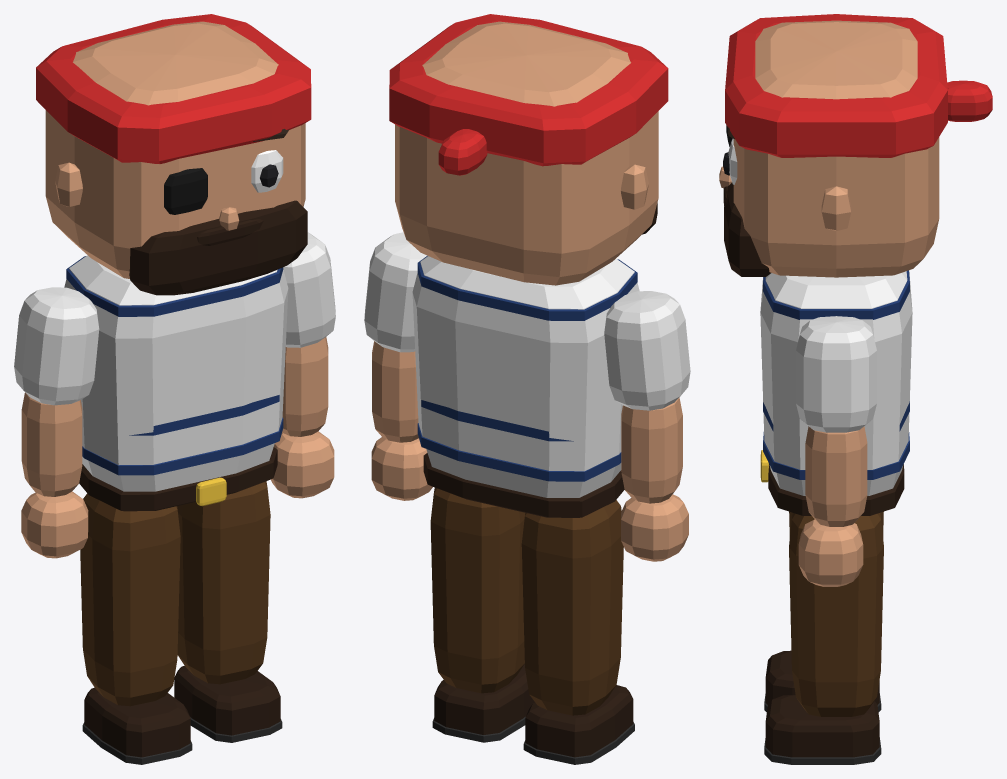
Rendered from hero-p.glb.
3 views of the same model, side by side, from view 1: azimuth 30°, elevation 25°; view 2: azimuth 150°, elevation 25°; view 3: azimuth 270°, elevation 25° (orthographic).
Parts seen in each view (by area): view 1: head, torso, leg-right, leg-left, arm-right, arm-left; view 2: head, torso, leg-right, leg-left, arm-right, arm-left; view 3: head, torso, leg-left, arm-left, leg-right.
Boxes of the visible parts, left/top/right/bottom form: head: left=36, top=14, right=311, bottom=295; torso: left=64, top=255, right=288, bottom=511; leg-right: left=80, top=493, right=192, bottom=764; leg-left: left=174, top=481, right=282, bottom=742; arm-right: left=14, top=287, right=99, bottom=558; arm-left: left=271, top=232, right=335, bottom=498; head: left=389, top=14, right=668, bottom=285; torso: left=412, top=255, right=639, bottom=517; leg-right: left=521, top=500, right=634, bottom=764; leg-left: left=430, top=487, right=534, bottom=742; arm-right: left=604, top=291, right=690, bottom=561; arm-left: left=364, top=232, right=432, bottom=500; head: left=719, top=14, right=992, bottom=277; torso: left=760, top=270, right=912, bottom=515; leg-left: left=764, top=513, right=883, bottom=764; arm-left: left=796, top=316, right=876, bottom=586; leg-right: left=764, top=511, right=883, bottom=712.
Size of the model in its own units: 1.29 by 2.71 by 0.9929.
